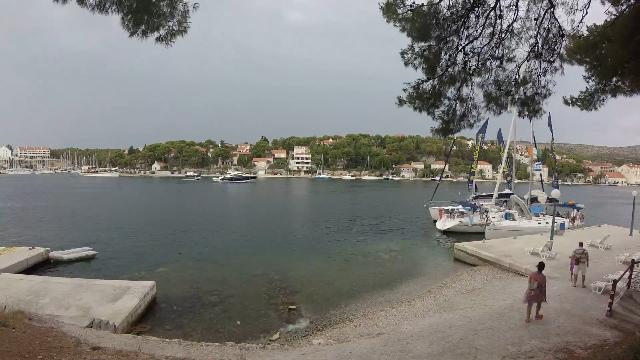speedboat: (208, 164, 266, 186)
